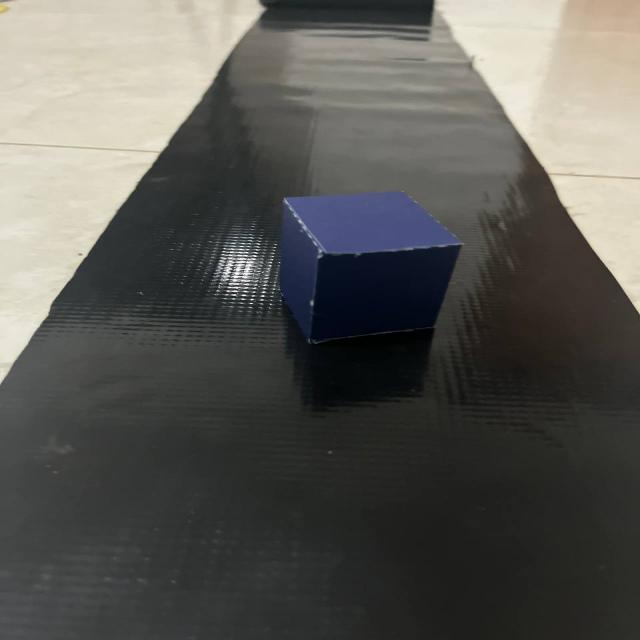Azul: (258, 176, 475, 364)
